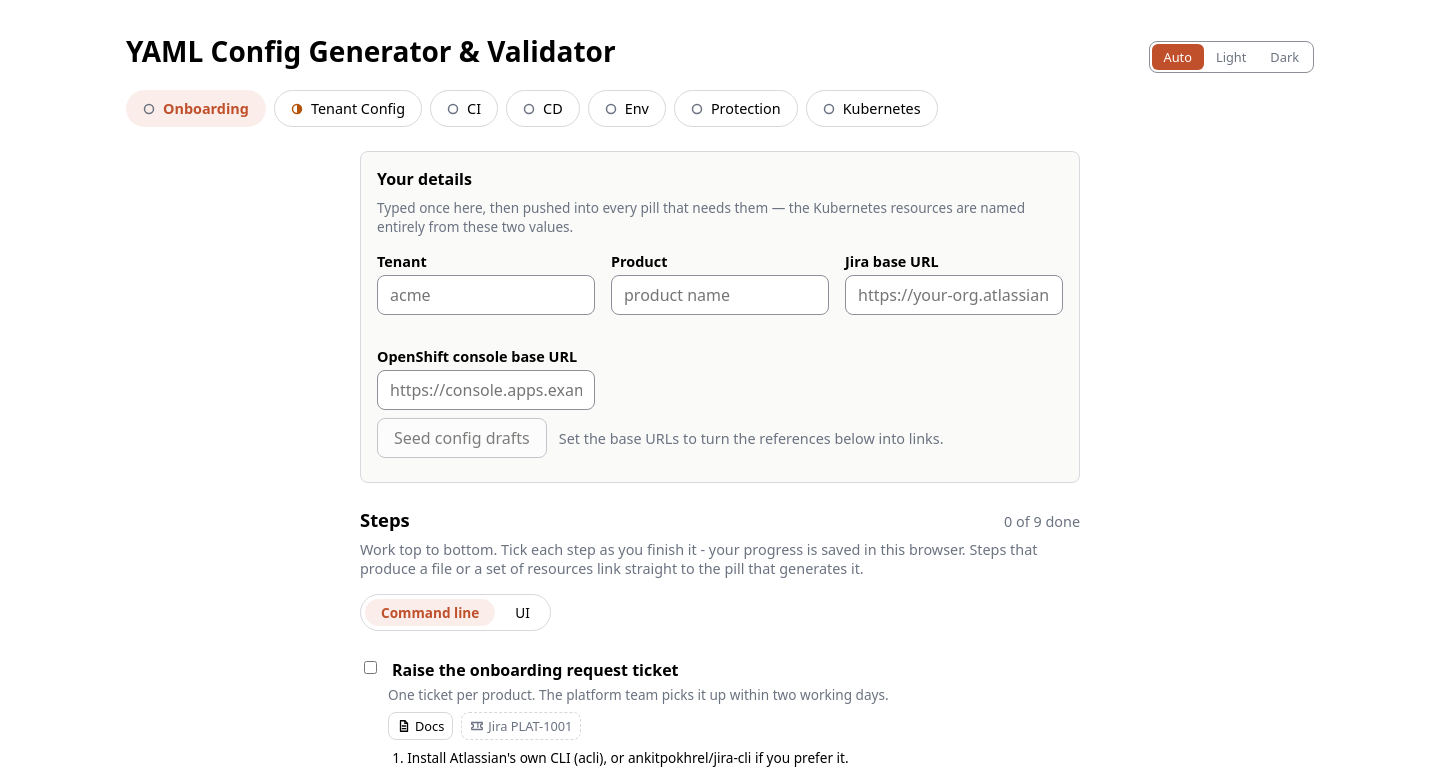
Scenario: App › seeding from the checklist prefills the tenant config draft
The image size is (1440, 773).
Type "widgets" into the field labelled "Product" at (720, 295), box [611, 275, 829, 315]
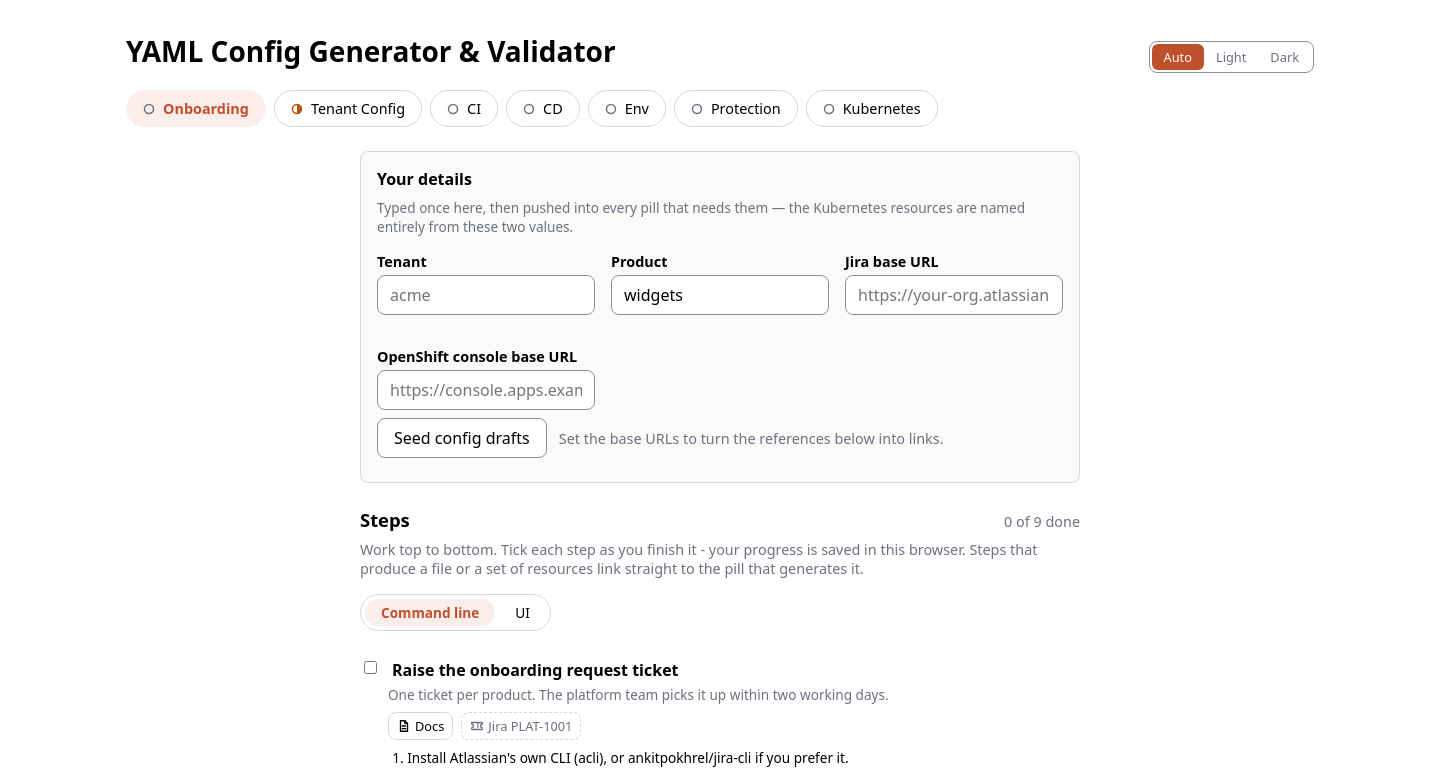
Click the button "Seed config drafts" at (462, 438), box [377, 418, 547, 458]
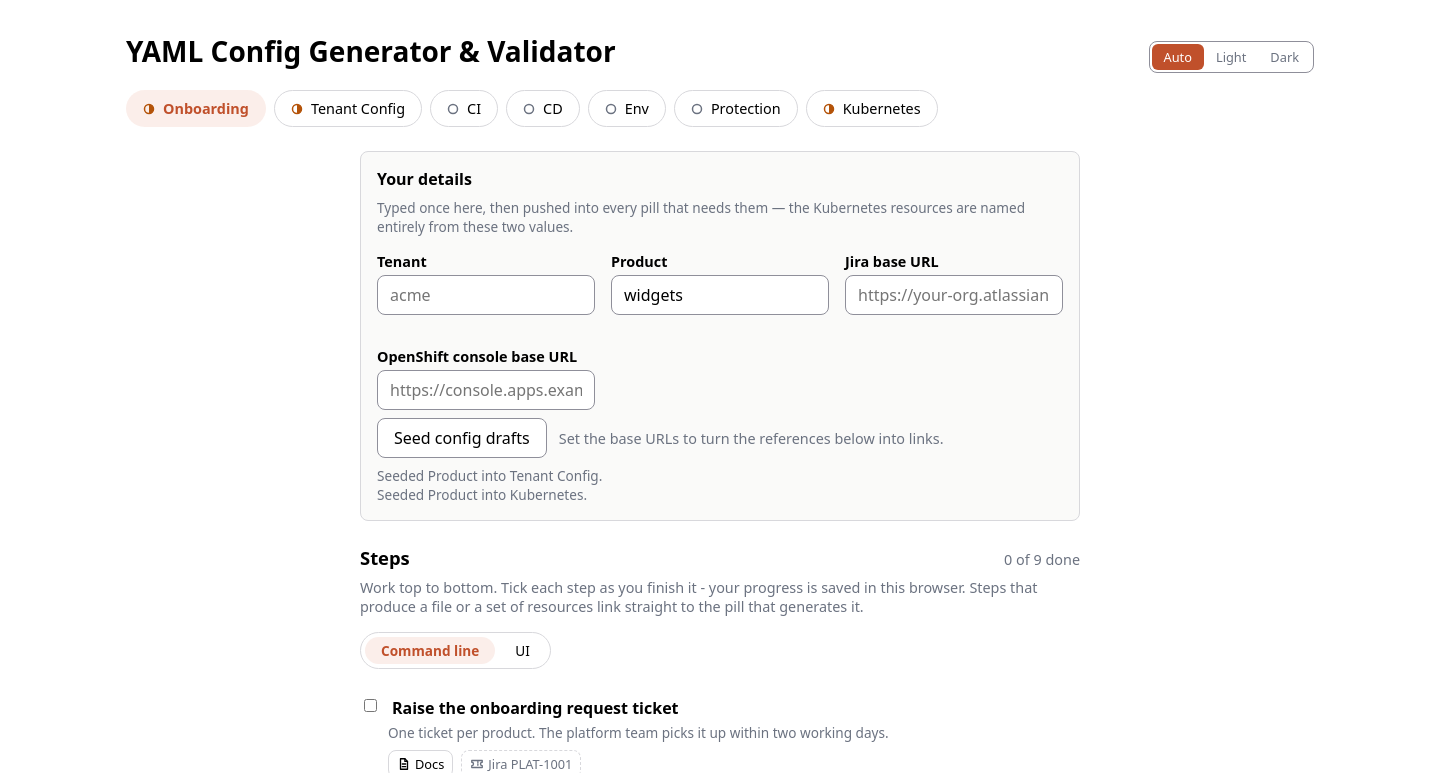
Expected: the text "Seeded Product into Tenant Config." is shown, [377, 466, 602, 485]
Click the button "Tenant Config" at (348, 108), box [274, 90, 422, 127]
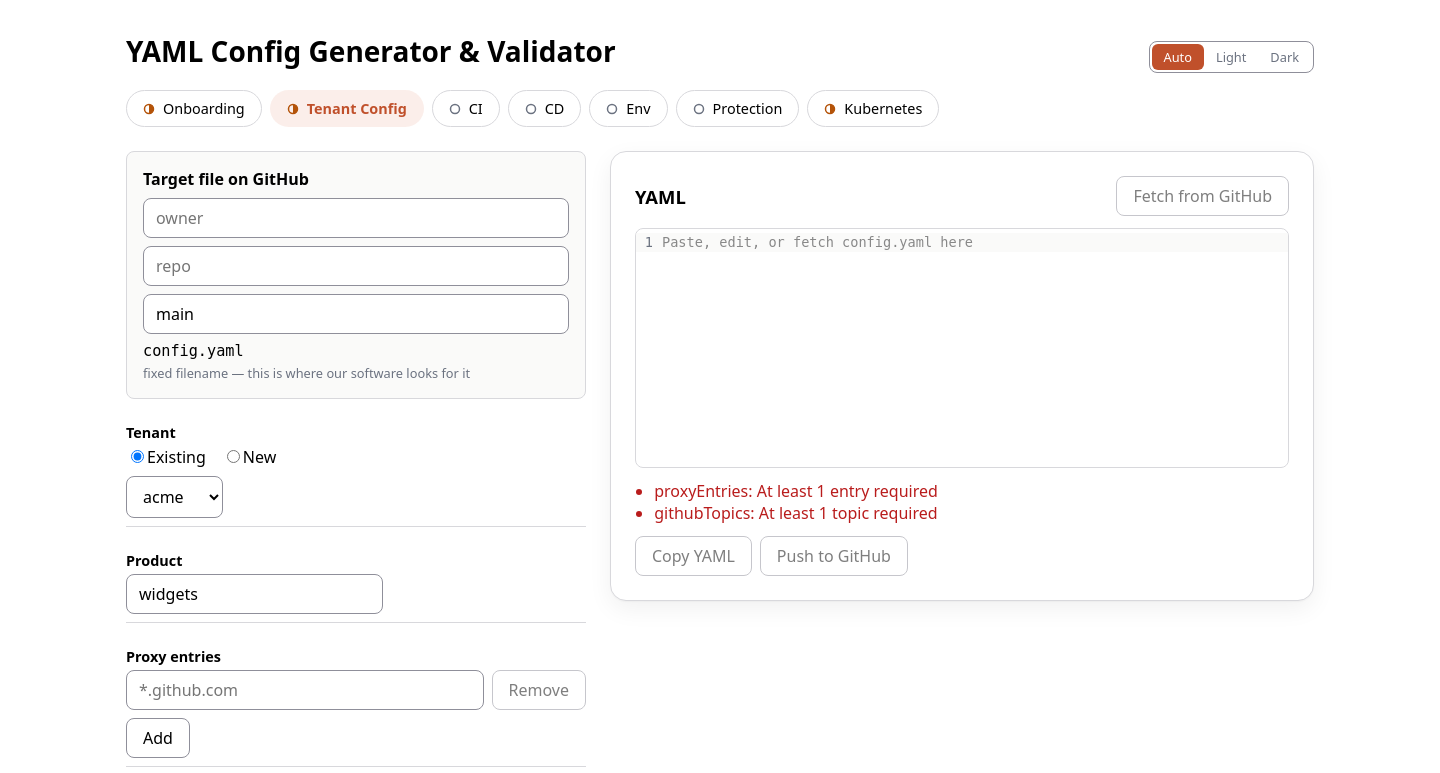
Expected: the field with placeholder "product name" holds "widgets", [126, 574, 383, 614]
